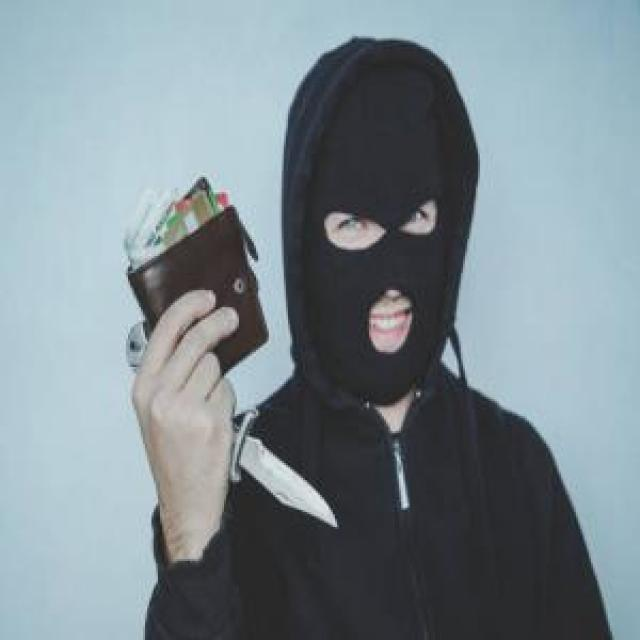knife: (126, 322, 345, 532)
